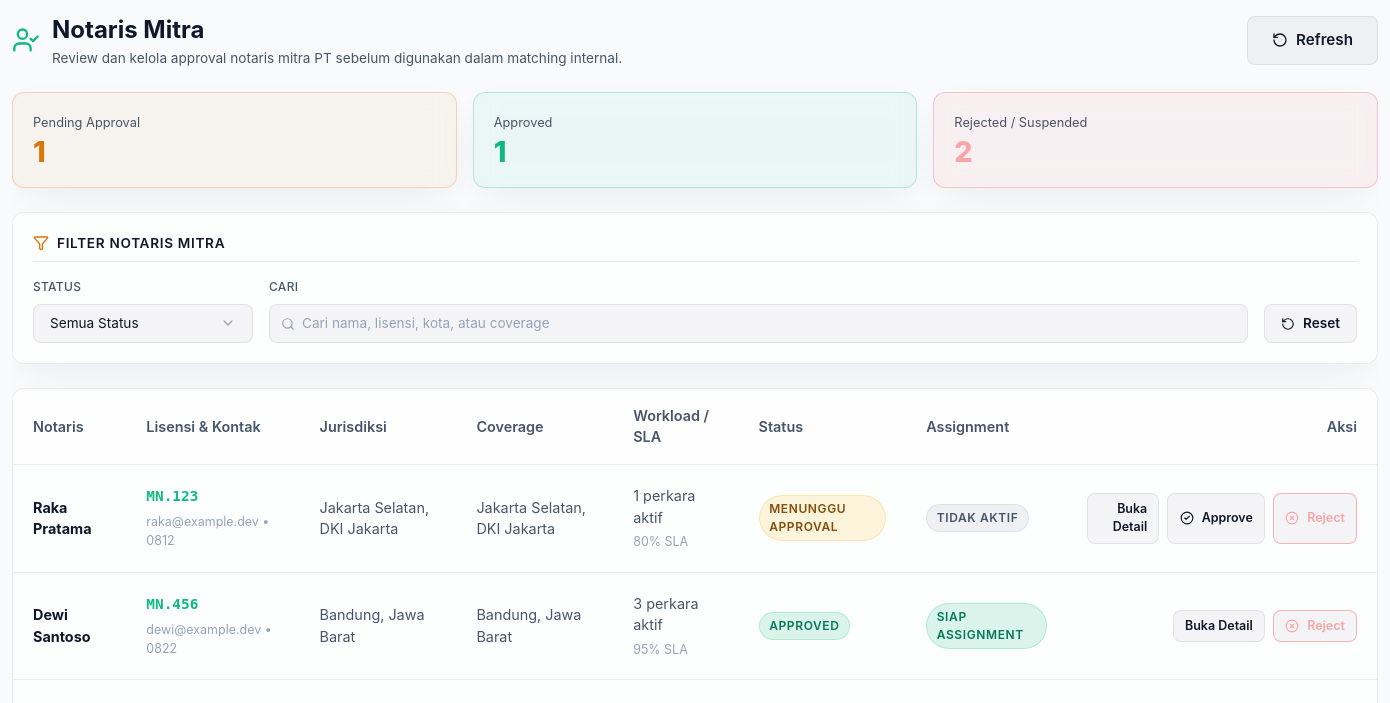
Test: NotaryPartners › filters client-side search by name, license, city, and coverage
expect the text "Raka Pratama" is shown: met, box [13,464,126,572]
Type "MN.456" into the field with placeholder "Cari nama, lisensi, kota, atau coverage" at (758, 324), box [269,304,1248,343]
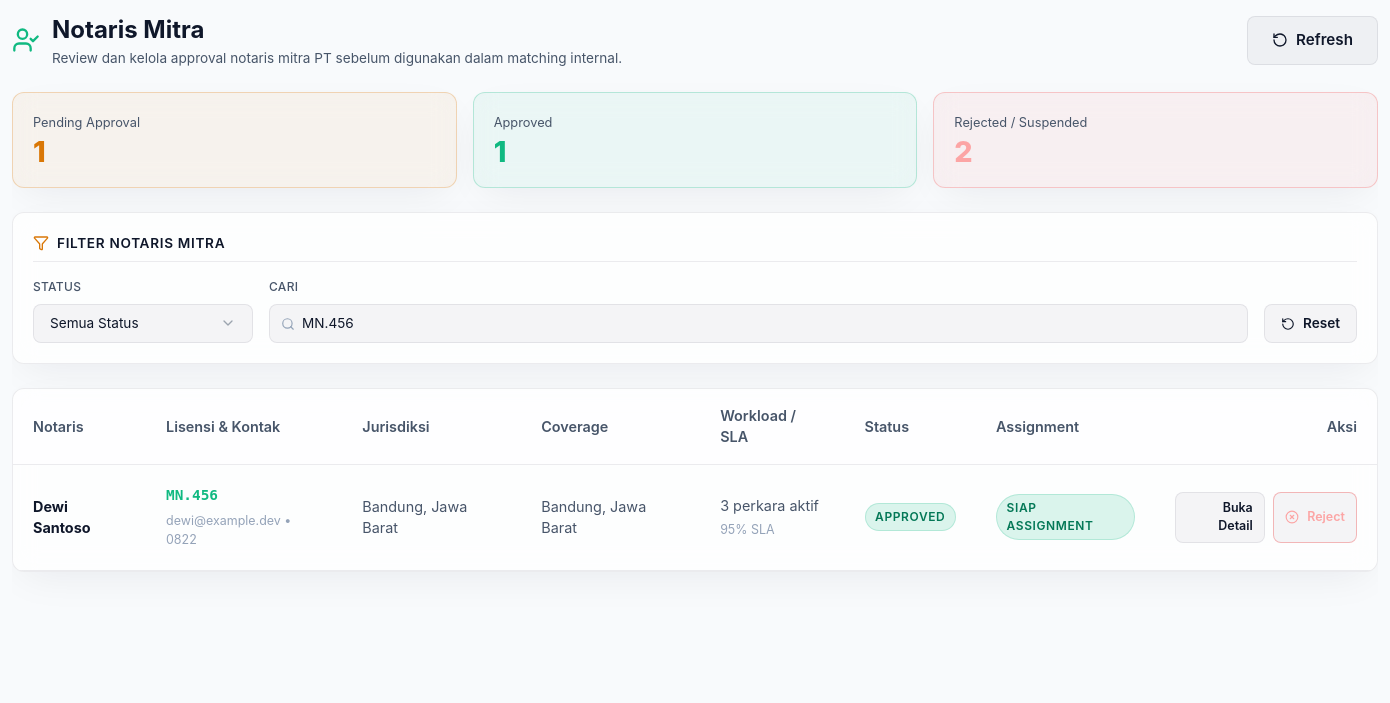
expect the text "Dewi Santoso" is shown: met, box [13,464,146,570]
expect the text "Raka Pratama" is gone: met
Replace the text in the field with placeholder "Cari nama, lisensi, kota, atau coverage" with "Surabaya" at (758, 324), box [269,304,1248,343]
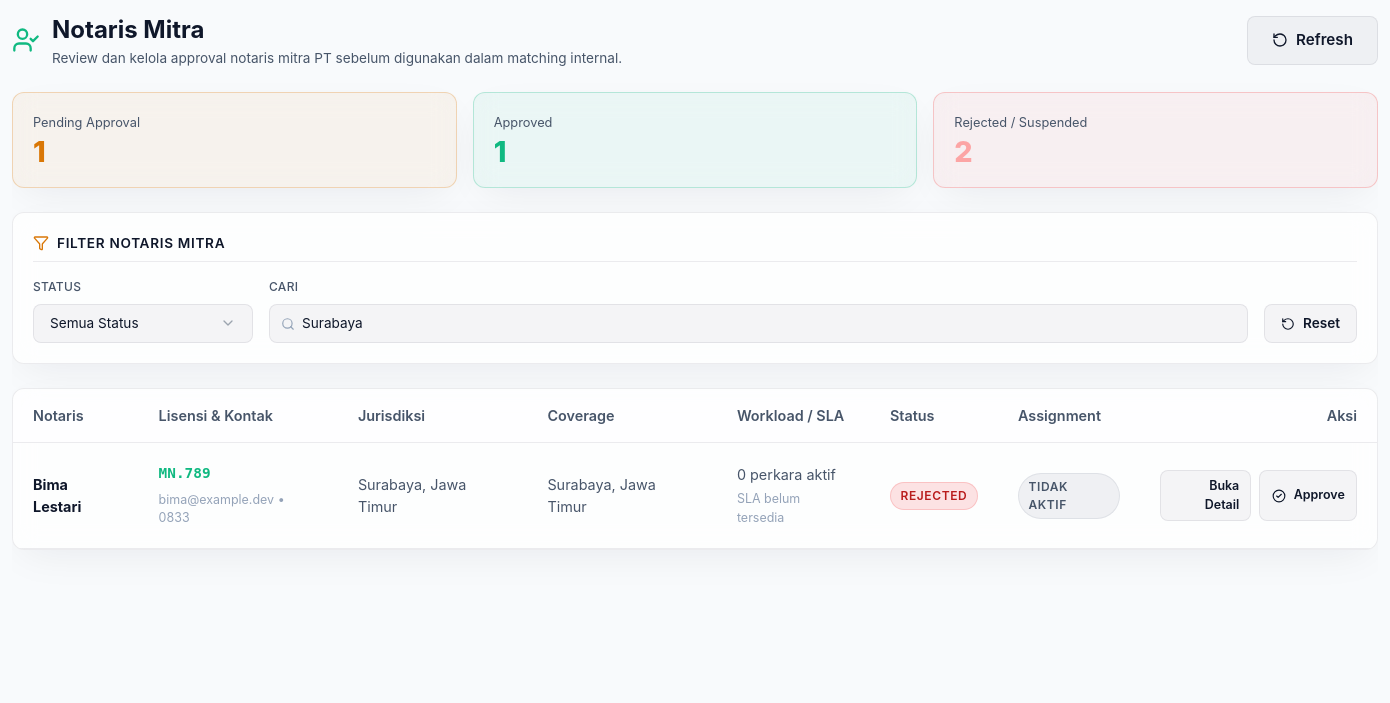
expect the text "Bima Lestari" is shown: met, box [13,443,139,548]
expect the text "Dewi Santoso" is gone: met
